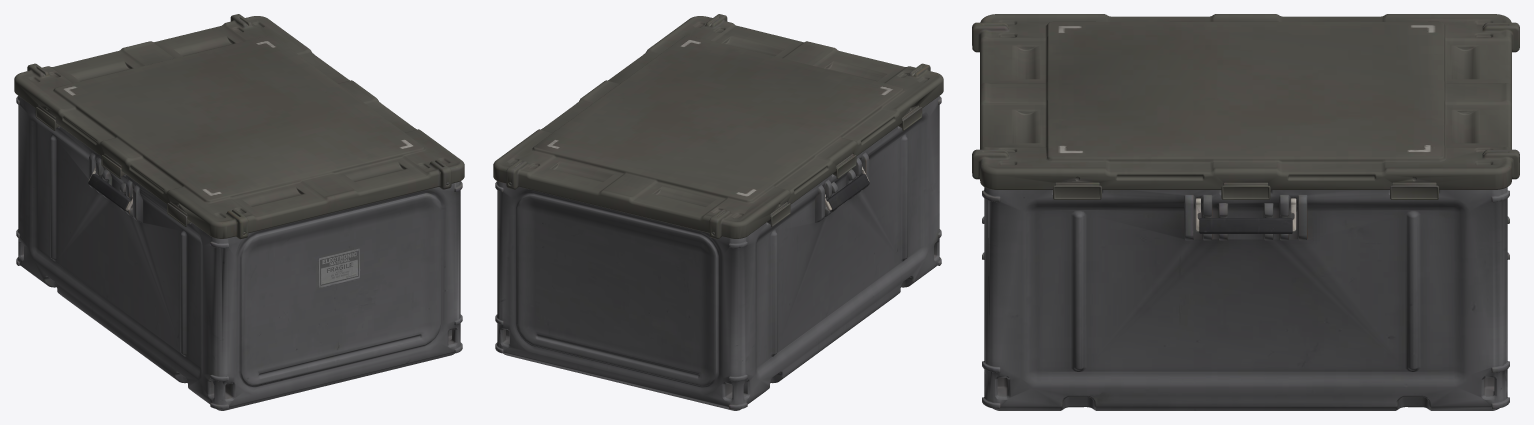
Rendered from storage_box_a01.glb.
3 renders of one model, left to right at view 1: azimuth 30°, elevation 25°; view 2: azimuth 150°, elevation 25°; view 3: azimuth 270°, elevation 25°, orthographic. The views are drawn at different scales.
Visible parts, largest first — view 1: body_01_mesh_00; view 2: body_01_mesh_00; view 3: body_01_mesh_00.
Part boxes in pixels (x1,y1,x2,y2): body_01_mesh_00: (14, 14, 464, 410); body_01_mesh_00: (493, 14, 943, 410); body_01_mesh_00: (972, 14, 1519, 410).
Bounding box in the file's own units: 0.7544 × 0.53 × 1.05.
Materials: 5 (5 with a texture image).
